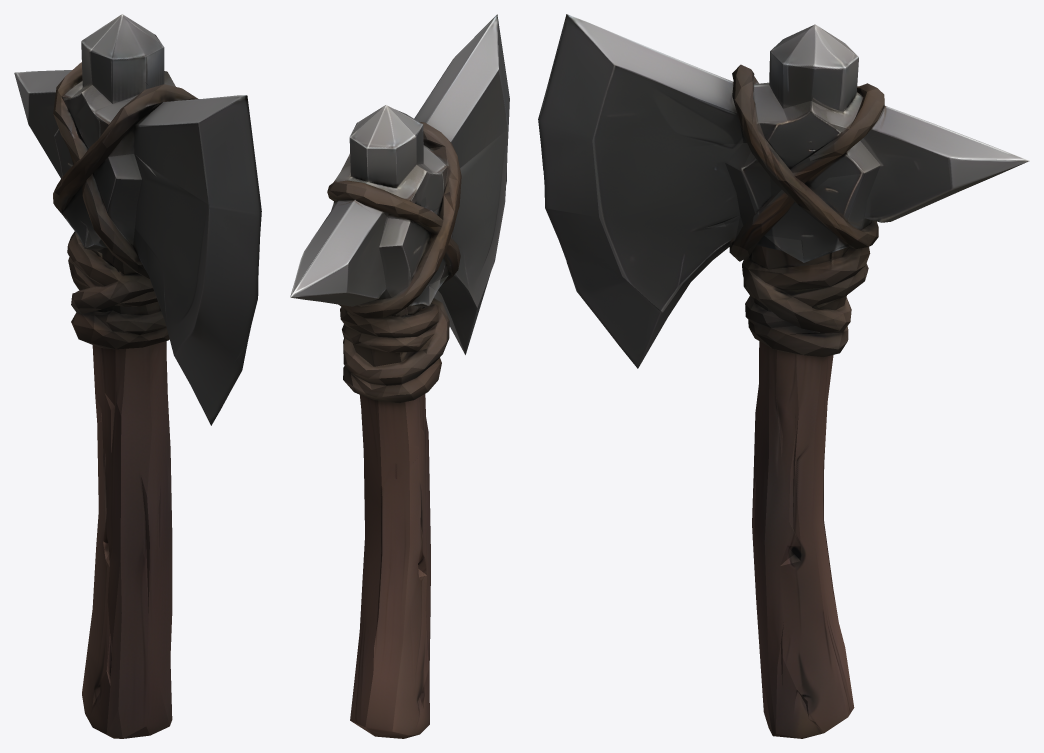
Rendered from base_basic_pbr.fbx.
3 views of the same model, side by side, from view 1: azimuth 30°, elevation 25°; view 2: azimuth 150°, elevation 25°; view 3: azimuth 270°, elevation 25° (orthographic). The views are drawn at different scales.
Parts seen in each view (by area): view 1: model; view 2: model; view 3: model.
Boxes of the visible parts, x1,y1,x2,y2 form: model: (14,14,261,738); model: (290,14,509,738); model: (538,14,1029,738).
Bounding box in the file's own units: 31.13 × 175 × 109.
1 material, 1 textured.
